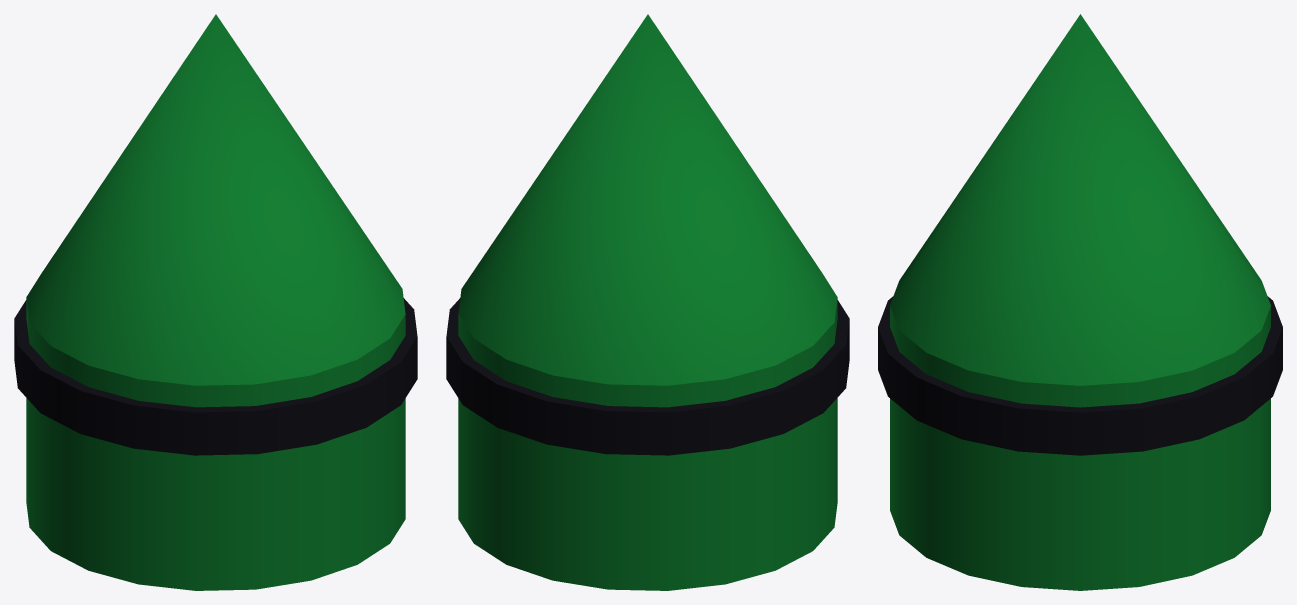
The model's file is conical_green.glb.
3 renders of one model, left to right at view 1: azimuth 30°, elevation 25°; view 2: azimuth 150°, elevation 25°; view 3: azimuth 270°, elevation 25°, orthographic.
Visible parts, largest first — view 1: conical_green; view 2: conical_green; view 3: conical_green.
Part boxes in pixels (left/top/right/bottom): conical_green: left=14, top=14, right=417, bottom=590; conical_green: left=446, top=14, right=849, bottom=590; conical_green: left=878, top=14, right=1282, bottom=590.
Size of the model in its own units: 1.7 by 2.3 by 1.7.
